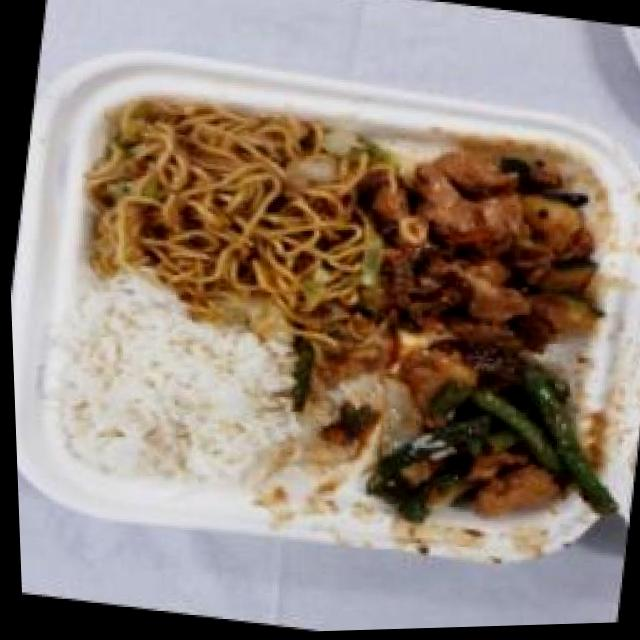Chow Mein: (68, 81, 385, 336)
Kung Pao Chicken: (349, 126, 626, 377)
String Bean Chicken Breast: (320, 331, 631, 558)
White Steamed Rice: (36, 282, 343, 514)
